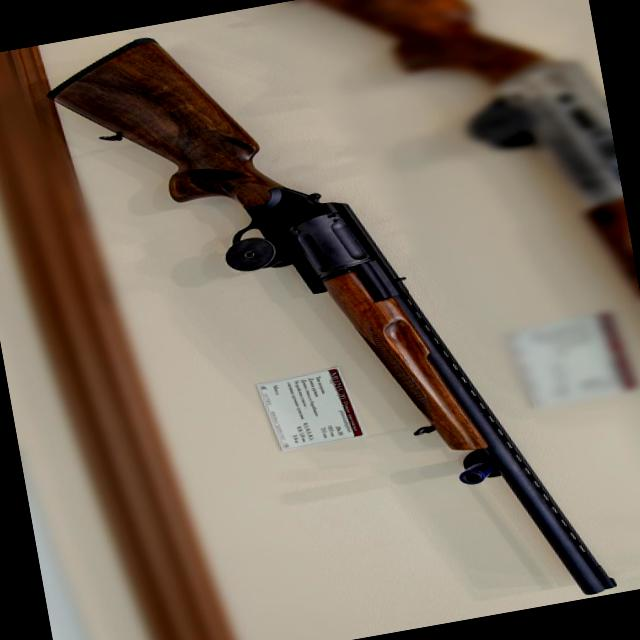long weapon: (8, 22, 640, 629)
